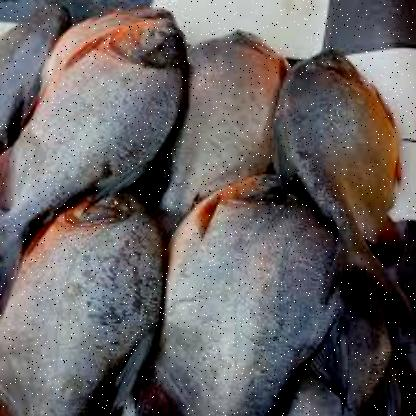ikan-pacu: (160, 171, 336, 415), (0, 195, 170, 415), (0, 18, 188, 205), (153, 28, 291, 202), (279, 46, 401, 228)
